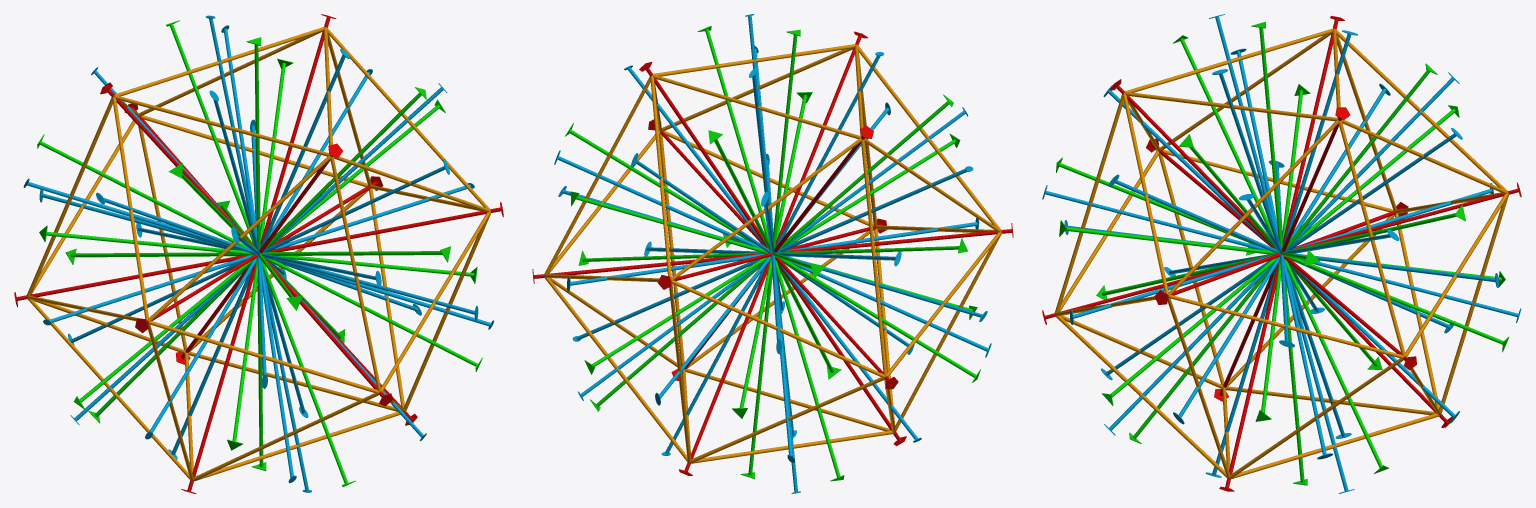
3 renders of one model, left to right at view 1: azimuth 30°, elevation 25°; view 2: azimuth 150°, elevation 25°; view 3: azimuth 270°, elevation 25°, orthographic. The views are drawn at different scales.
Size of the model in its own units: 517 by 516 by 502.
